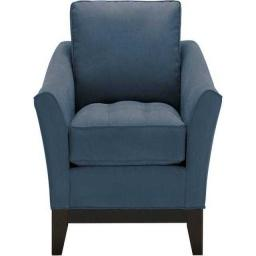Chair: (34, 0, 221, 256)
